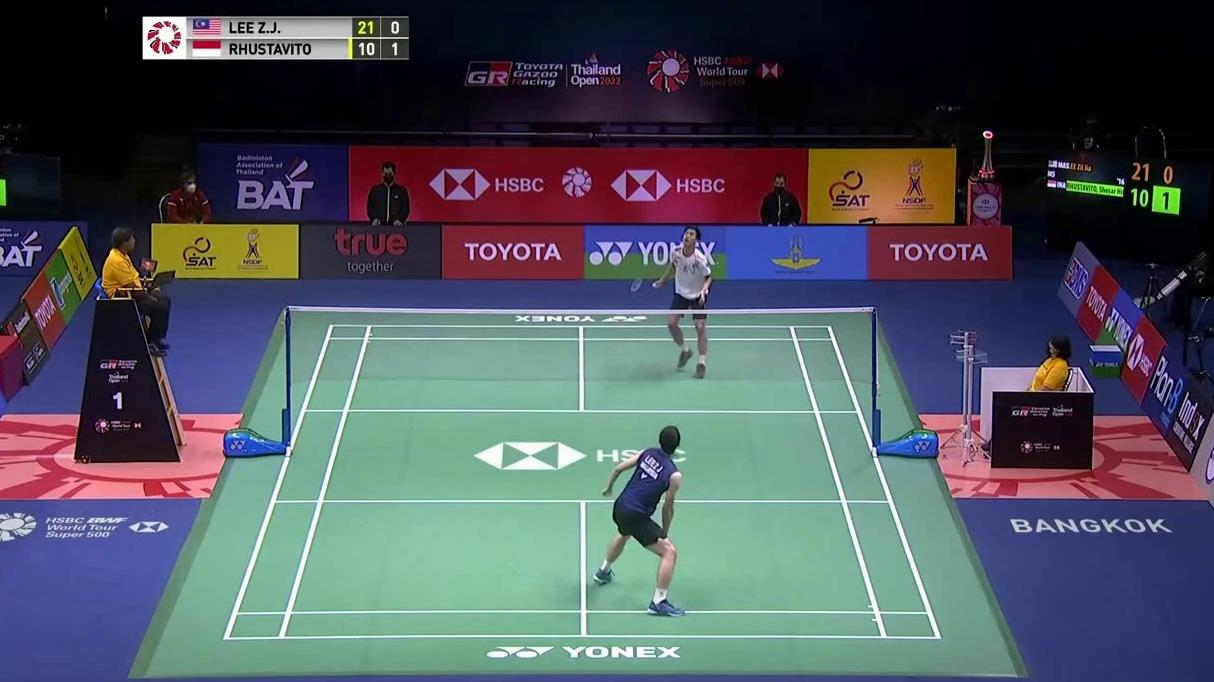racket: (631, 276, 662, 292)
